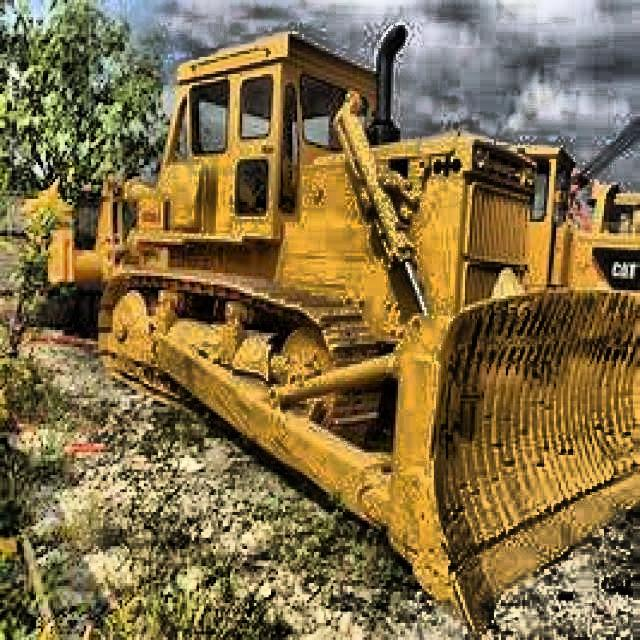bull_dozer/loader/grader: (43, 9, 638, 632)
